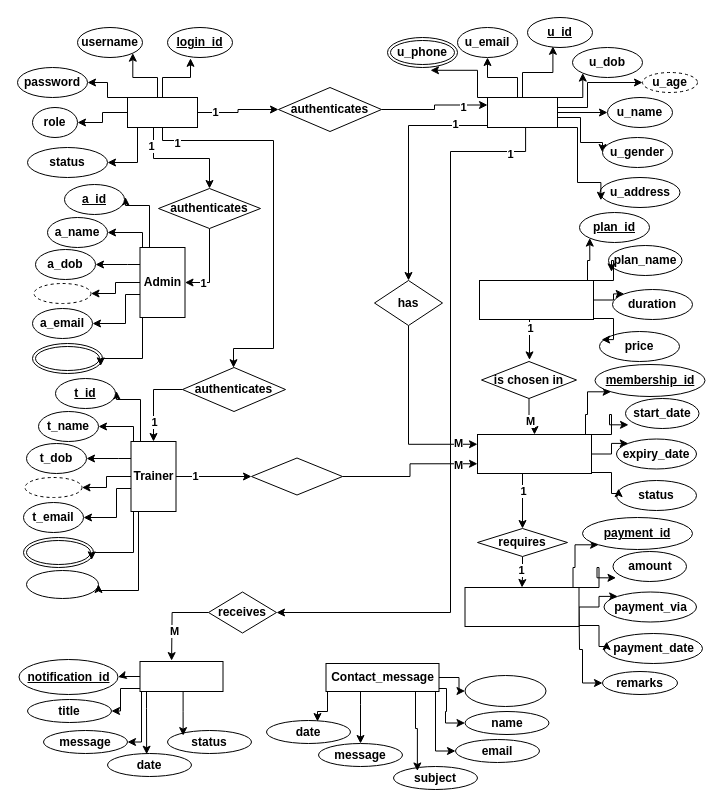
Image size: 723x807. Some labels were removed from this diagram. Each missing label, with the centre of its shape:
a_age: the point at 62,293
a_phone: the point at 67,358
contact_id: the point at 505,690
Login: the point at 162,112
membership_plan: the point at 536,300
Notification: the point at 181,676
payment: the point at 521,606
supervises: the point at 296,476
t_age: the point at 53,487
t_expertise: the point at 62,584
t_phone: the point at 58,552
User: the point at 522,112
user_membership: the point at 534,454
